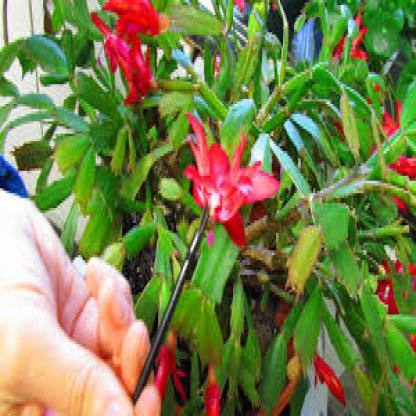Aglonema: (17, 62, 414, 277)
